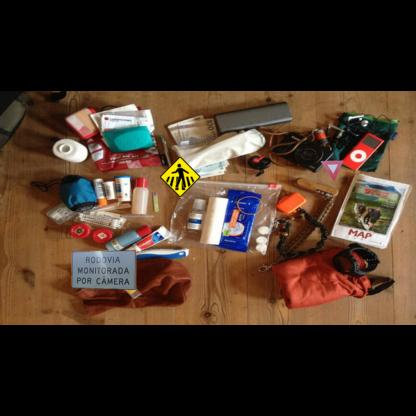A-32b: (159, 156, 201, 198)
I-E: (71, 250, 136, 290)
